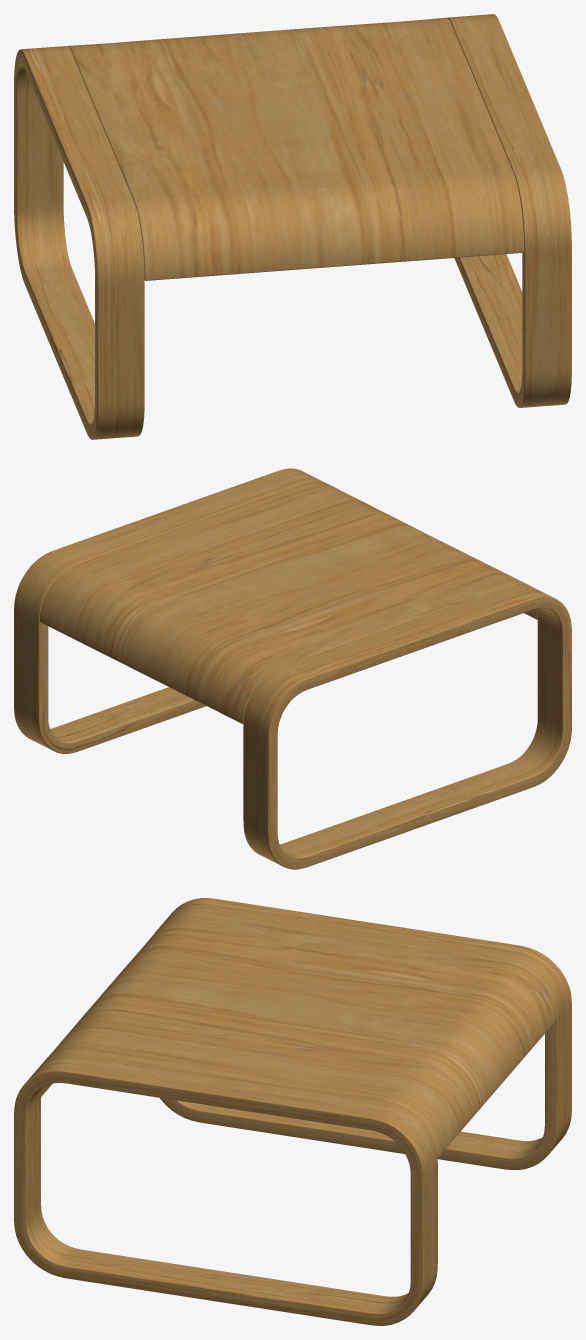
The model's file is stul_01.gltf.
The picture shows the model from 3 angles, top to bottom: view 1: azimuth 30°, elevation 25°; view 2: azimuth 150°, elevation 25°; view 3: azimuth 270°, elevation 25°; orthographic projection. The views are drawn at different scales.
Parts seen in each view (by area): view 1: object_1.003, object_3.003, object_3.002; view 2: object_1.003, object_3.003, object_3.002; view 3: object_1.003, object_3.002, object_3.003.
Part boxes in pixels (x1,y1,x2,y2): object_1.003: [68, 17, 524, 280]; object_3.003: [14, 46, 144, 439]; object_3.002: [447, 14, 571, 407]; object_1.003: [39, 481, 537, 724]; object_3.003: [243, 584, 571, 869]; object_3.002: [14, 468, 327, 753]; object_1.003: [40, 915, 556, 1157]; object_3.002: [14, 1053, 437, 1325]; object_3.003: [159, 898, 571, 1169].
Bounding box in the file's own units: 1.02 × 0.42 × 1.02.
Materials: 2 (2 with a texture image).
